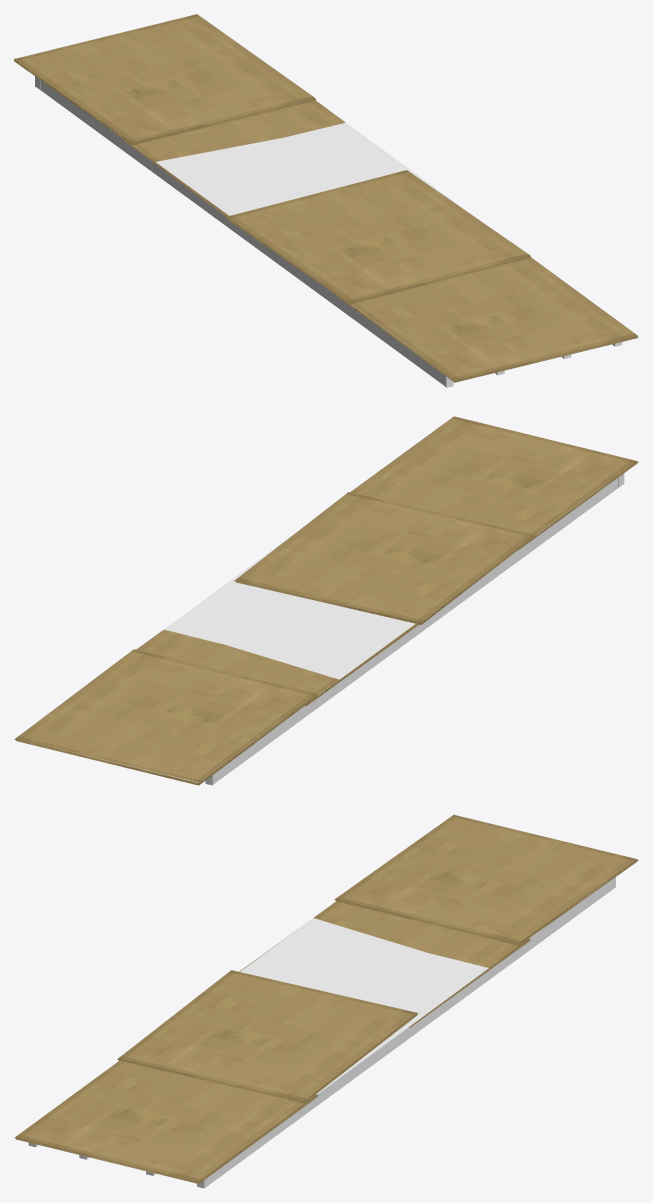
File: objects_un_base_board03.gltf
3 renders of one model, top to bottom at view 1: azimuth 30°, elevation 25°; view 2: azimuth 150°, elevation 25°; view 3: azimuth 330°, elevation 25°, orthographic.
Visible parts, largest first — view 1: um_objects_un_base_board03_model_lod0Shape:objects_un_base_b (×2), um_objects_un_base_board03_model_lod0Shape:objects_un_base_s, um_objects_un_base_board03_model_lod2Shape:objects_un_base_b; view 2: um_objects_un_base_board03_model_lod0Shape:objects_un_base_b (×2), um_objects_un_base_board03_model_lod0Shape:objects_un_base_s, um_objects_un_base_board03_model_lod2Shape:objects_un_base_b; view 3: um_objects_un_base_board03_model_lod0Shape:objects_un_base_b (×2), um_objects_un_base_board03_model_lod2Shape:objects_un_base_b.
Boxes of the visible parts, x1,y1,x2,y2 form: um_objects_un_base_board03_model_lod0Shape:objects_un_base_b (×2): [14, 14, 637, 384]; um_objects_un_base_board03_model_lod0Shape:objects_un_base_s: [35, 76, 622, 387]; um_objects_un_base_board03_model_lod2Shape:objects_un_base_b: [14, 58, 638, 381]; um_objects_un_base_board03_model_lod0Shape:objects_un_base_b (×2): [15, 416, 637, 785]; um_objects_un_base_board03_model_lod0Shape:objects_un_base_s: [205, 473, 624, 785]; um_objects_un_base_board03_model_lod2Shape:objects_un_base_b: [14, 461, 638, 782]; um_objects_un_base_board03_model_lod0Shape:objects_un_base_b (×2): [15, 814, 637, 1187]; um_objects_un_base_board03_model_lod2Shape:objects_un_base_b: [14, 814, 638, 1183].
Size of the model in its own units: 2.59 by 0.2428 by 10.39.
Materials: 3 (1 with a texture image).
